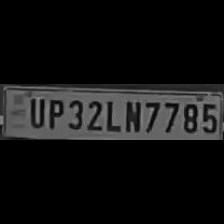2: (84, 97, 104, 131)
3: (65, 96, 83, 130)
5: (198, 99, 218, 133)
7: (140, 98, 160, 132), (160, 98, 178, 132)
8: (178, 99, 198, 133)
L: (102, 97, 120, 132)
N: (121, 97, 141, 132)
P: (44, 96, 64, 130)
U: (24, 96, 43, 128)
